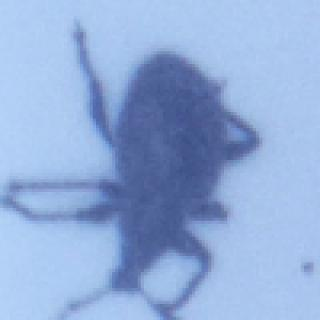bvw: (2, 16, 260, 320)
